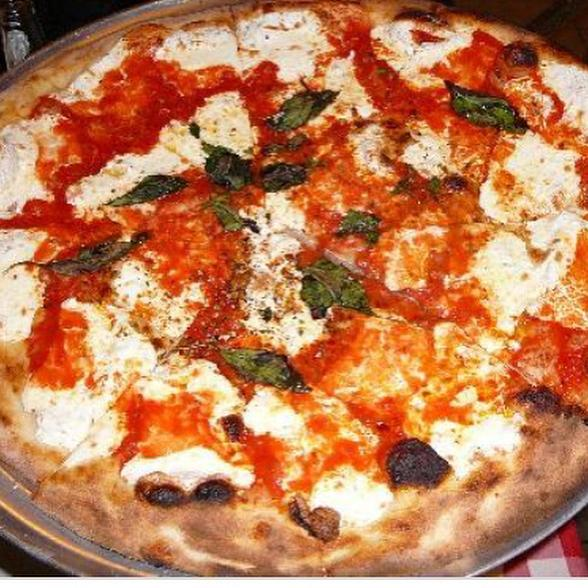Basil: (50, 226, 153, 283), (204, 142, 311, 193), (223, 335, 309, 392), (448, 82, 525, 138), (301, 255, 370, 315), (278, 85, 339, 136), (111, 171, 187, 208), (208, 200, 256, 235), (333, 211, 385, 239)
Cheese: (181, 15, 306, 62), (503, 143, 574, 220), (487, 245, 561, 312), (40, 395, 120, 453), (387, 22, 464, 66), (0, 232, 32, 333), (0, 131, 34, 211), (146, 450, 226, 484), (448, 423, 510, 465), (550, 71, 588, 138), (324, 478, 381, 520)
Pizza: (0, 0, 588, 588)
